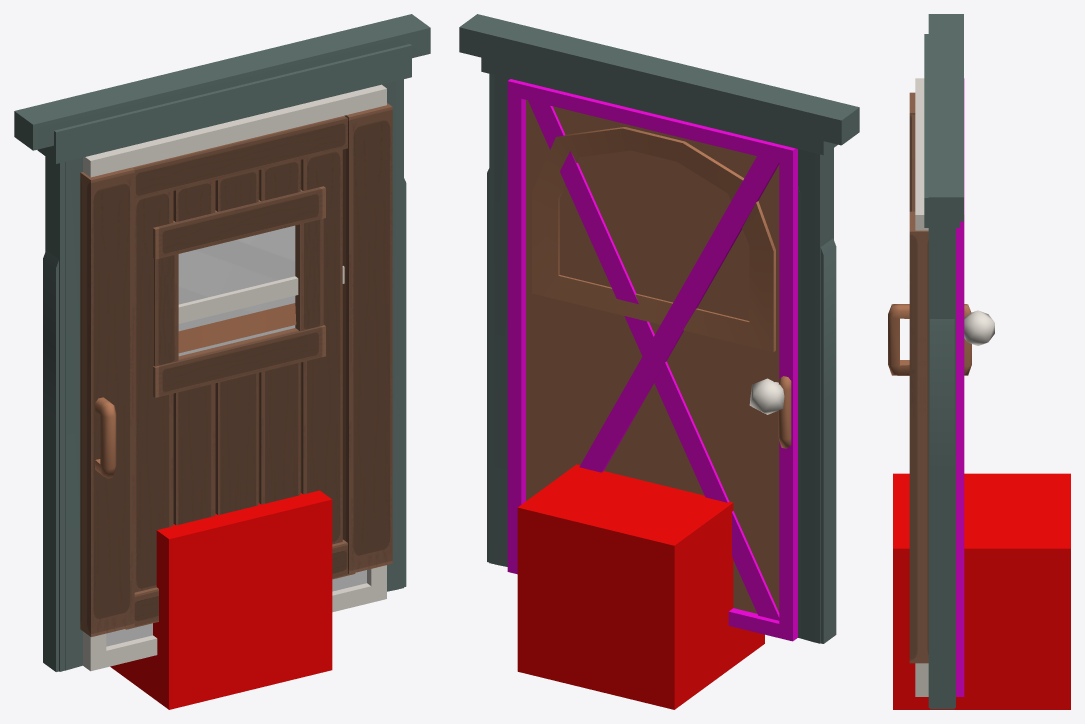
File: Door_Prefab.fbx
3 views of the same model, side by side, from view 1: azimuth 30°, elevation 25°; view 2: azimuth 150°, elevation 25°; view 3: azimuth 270°, elevation 25° (orthographic). The views are drawn at different scales.
Parts seen in each view (by area): view 1: Door, Entry_Exit_Zone, BarnDoorFrame, GlassDoor, Door_Frame, ArchDoorFrame, ArchDoor; view 2: BarnDoor, Entry_Exit_Zone, BarnDoorFrame, ArchDoor, Door_Frame, ArchDoorFrame, GlassDoor; view 3: Entry_Exit_Zone, ArchDoorFrame, Door, BarnDoorFrame, Door_Frame, BarnDoor, GlassDoor, ArchDoor.
Boxes of the visible parts, <box> form: Door: <box>80,103,392,636</box>; Entry_Exit_Zone: <box>110,490,332,709</box>; BarnDoorFrame: <box>14,14,430,670</box>; GlassDoor: <box>83,84,386,671</box>; Door_Frame: <box>37,44,411,671</box>; ArchDoorFrame: <box>43,178,406,671</box>; ArchDoor: <box>178,303,296,353</box>; BarnDoor: <box>507,79,797,641</box>; Entry_Exit_Zone: <box>517,464,764,709</box>; BarnDoorFrame: <box>459,14,859,642</box>; ArchDoor: <box>532,127,784,414</box>; Door_Frame: <box>481,57,837,643</box>; ArchDoorFrame: <box>487,168,836,643</box>; GlassDoor: <box>778,376,791,448</box>; Entry_Exit_Zone: <box>893,473,1070,709</box>; ArchDoorFrame: <box>930,319,954,709</box>; Door: <box>909,92,928,663</box>; BarnDoorFrame: <box>928,14,963,221</box>; Door_Frame: <box>924,34,959,707</box>; BarnDoor: <box>956,78,964,696</box>; GlassDoor: <box>888,78,971,696</box>; ArchDoor: <box>964,310,994,345</box>.
Bounding box in the file's own units: 2.44 × 3.52 × 1.03.
